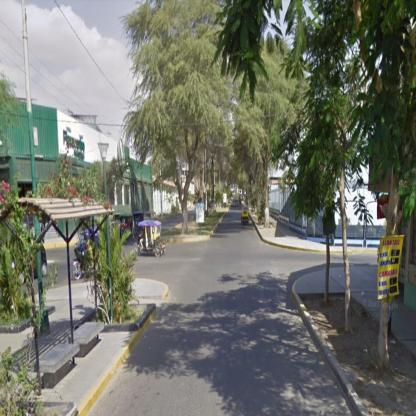Pista: (87, 237, 359, 416)
Vehiculo: (133, 218, 166, 260), (242, 208, 250, 225)
